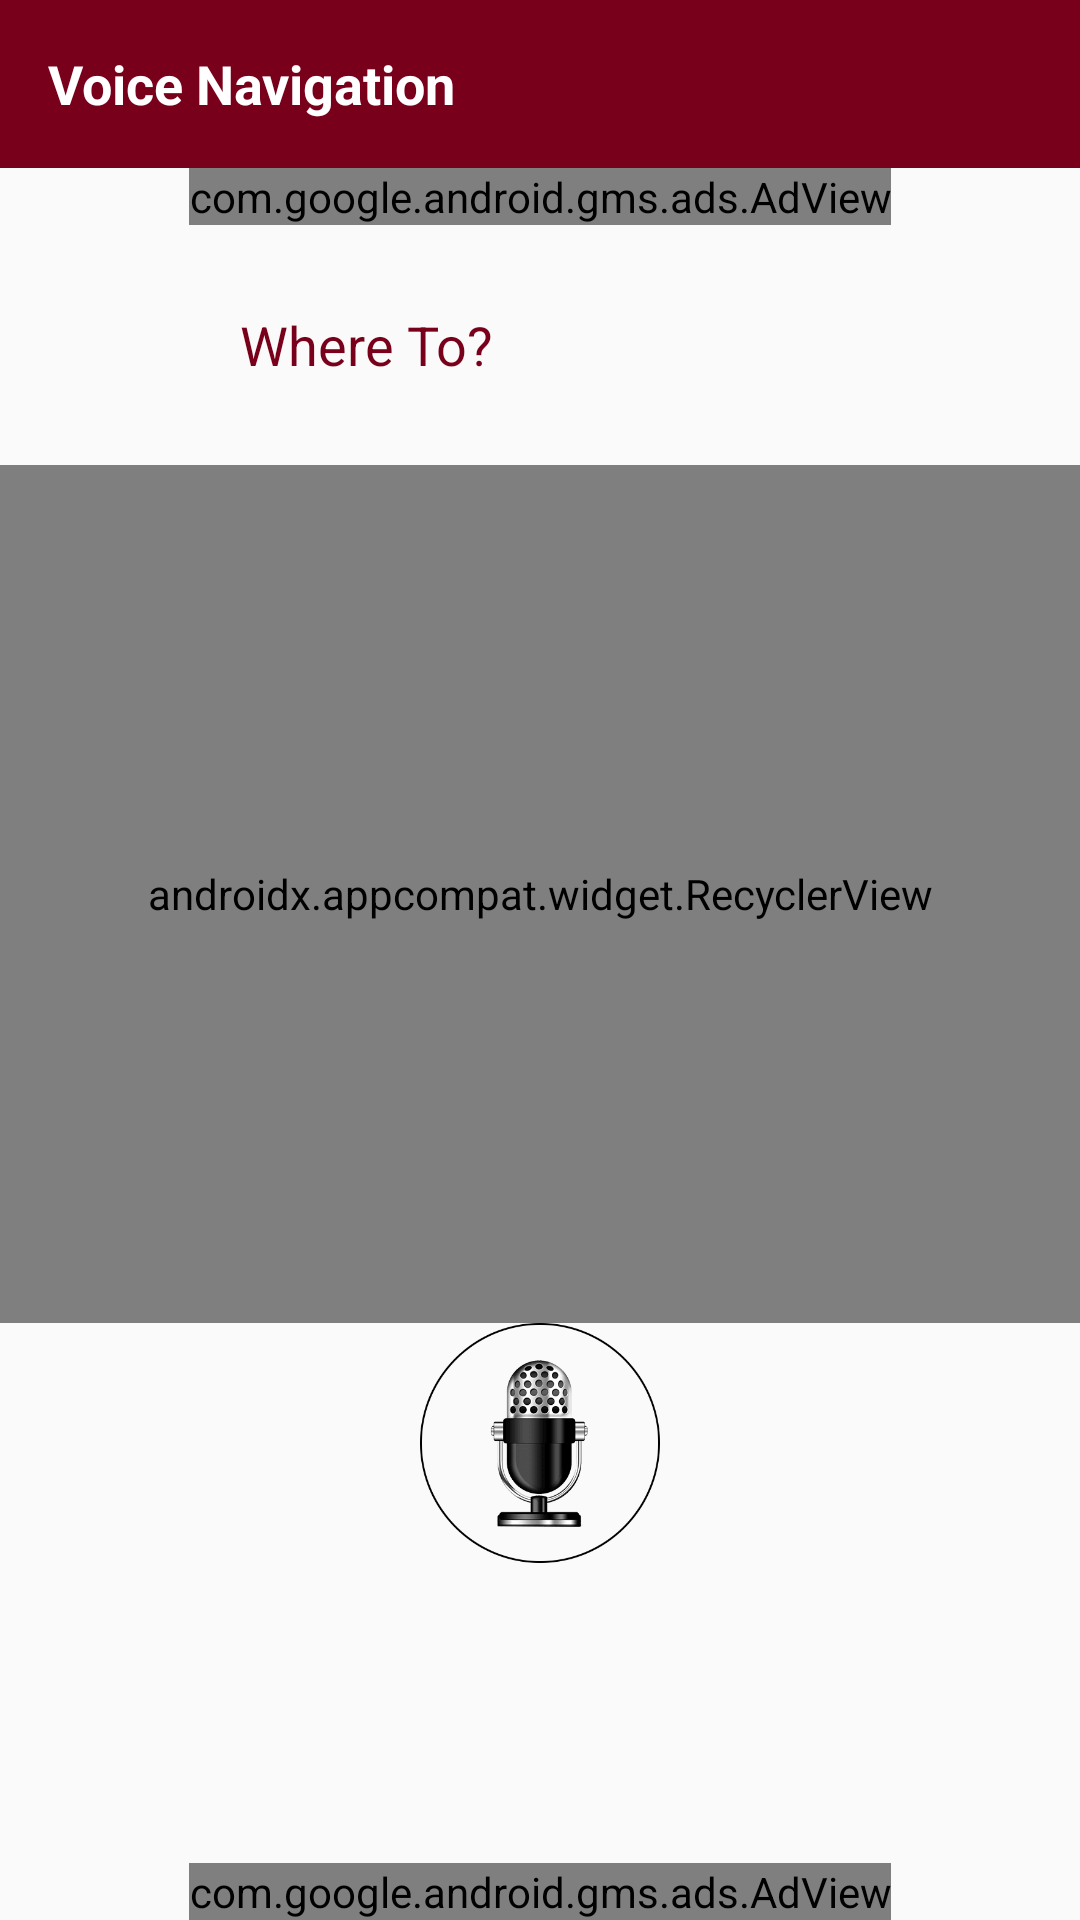

Screen size 1080 × 1920. Icon name, then its center in pixels as [x,y]:
voice recorder: [539,1443]
